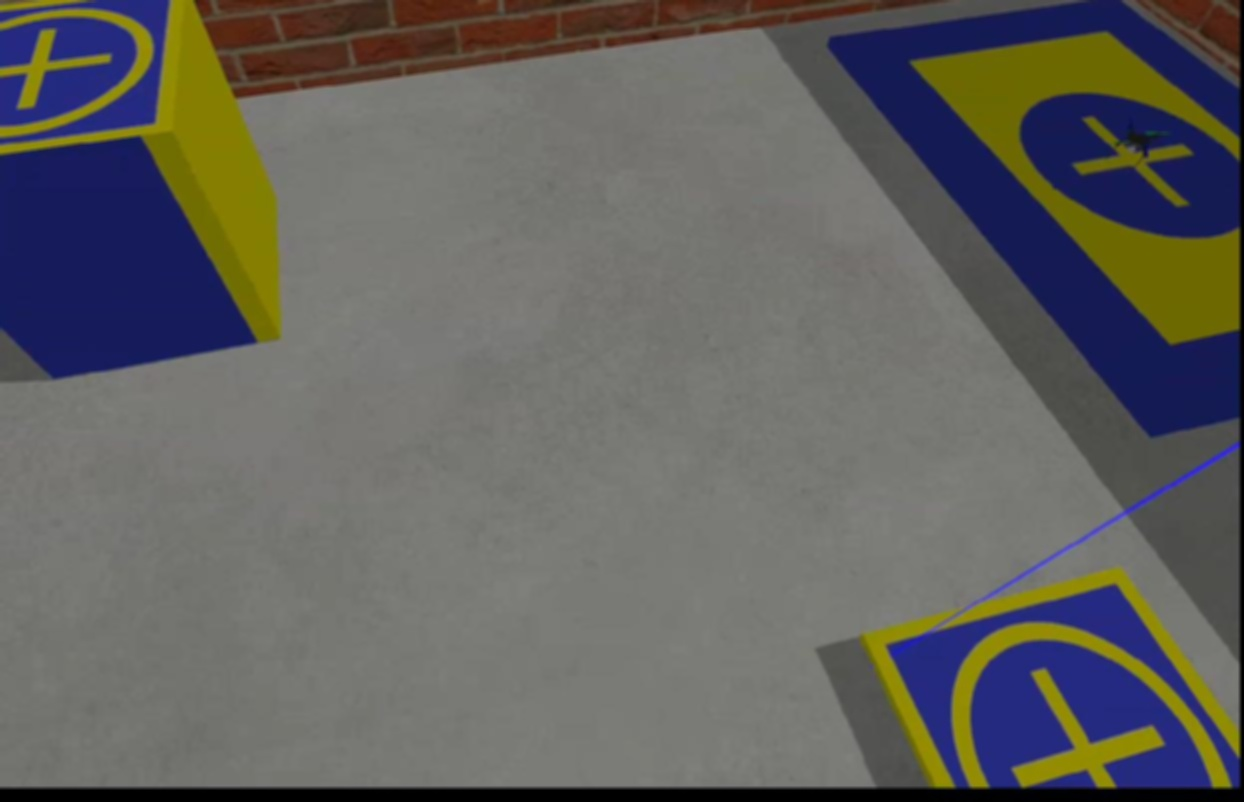large_base: (826, 1, 1244, 442)
small_base: (866, 567, 1240, 788), (0, 1, 182, 163)
